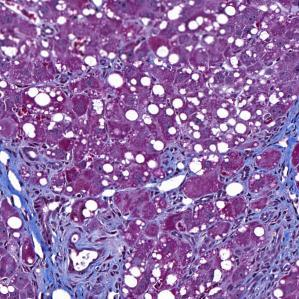fibrosis: (4, 161, 125, 259), (226, 144, 299, 264)
